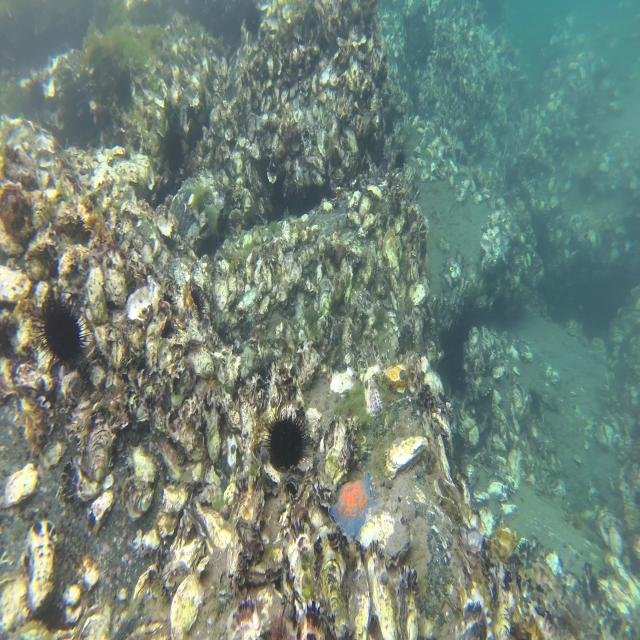echinus: (36, 289, 90, 377), (262, 403, 312, 477), (190, 286, 206, 322)
starfish: (328, 472, 377, 541)
